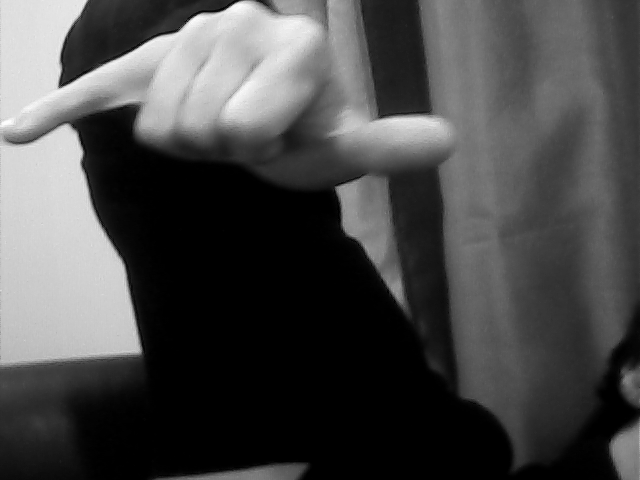aloha: (1, 2, 461, 194)
